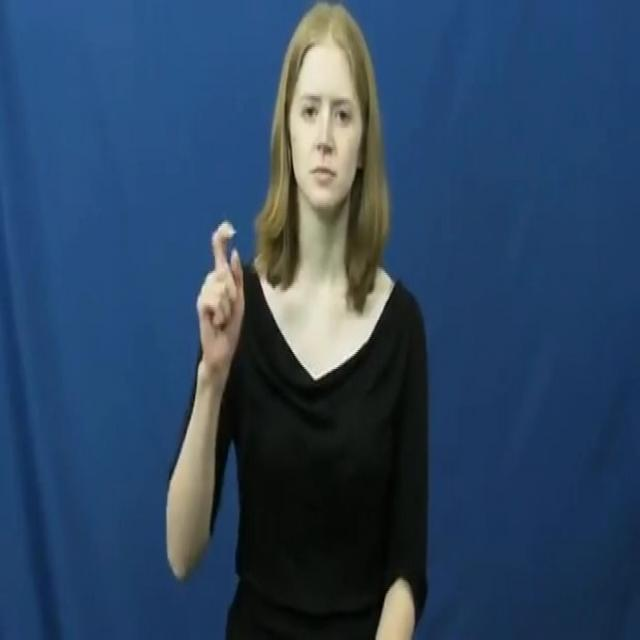additional: (184, 211, 262, 412)
